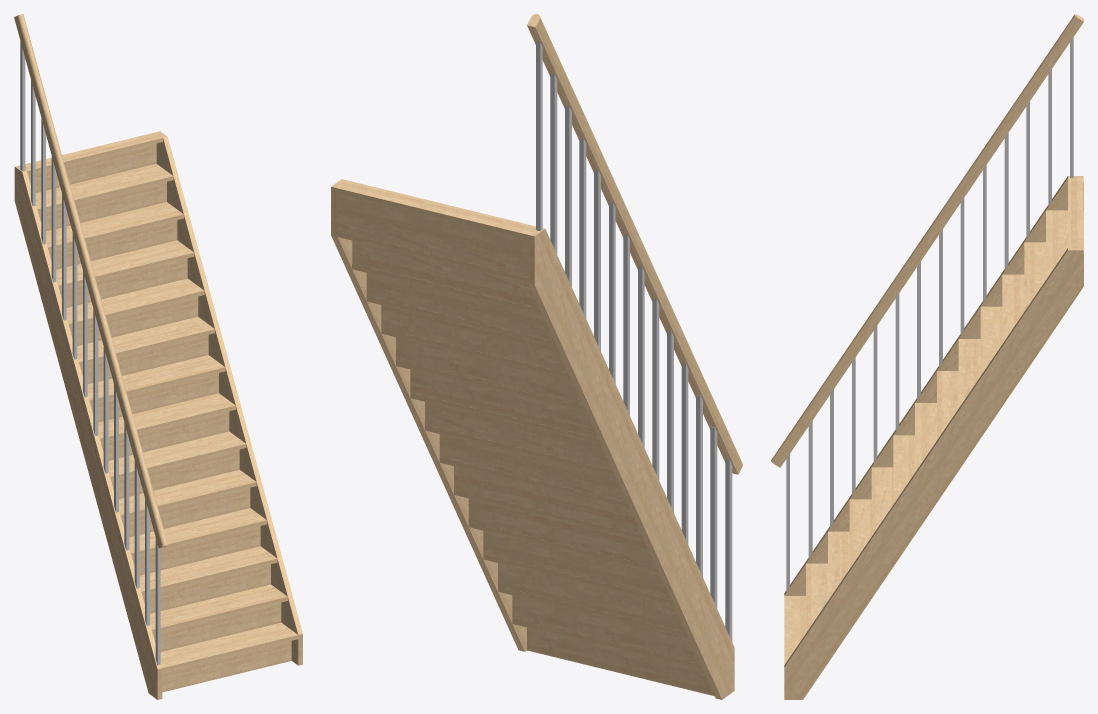
The model's file is sweethome3d-contributions-steep-staircase-442.glb.
The picture shows the model from 3 angles, left to right: view 1: azimuth 30°, elevation 25°; view 2: azimuth 150°, elevation 25°; view 3: azimuth 270°, elevation 25°; orthographic projection. The views are drawn at different scales.
Parts seen in each view (by area): view 1: 3_3, 5_5, 71_71, 28_28, 72_72, 2_2.001; view 2: 6_6, 3_3, 71_71, 28_28, 2_2.001, 72_72; view 3: 72_72, 3_3, 28_28, 2_2.001, 71_71.
Boxes of the visible parts, box(x1,y1,x2,y2) form: 3_3: box(18, 132, 299, 672); 5_5: box(28, 143, 291, 692); 71_71: box(14, 166, 162, 699); 28_28: box(20, 41, 160, 665); 72_72: box(156, 131, 302, 665); 2_2.001: box(14, 14, 167, 548); 6_6: box(337, 194, 714, 695); 3_3: box(335, 180, 702, 670); 71_71: box(528, 228, 734, 699); 28_28: box(536, 41, 732, 641); 2_2.001: box(527, 14, 742, 474); 72_72: box(331, 179, 526, 651); 72_72: box(784, 248, 1083, 699); 3_3: box(784, 177, 1083, 664); 28_28: box(786, 37, 1073, 591); 2_2.001: box(771, 14, 1083, 467); 71_71: box(784, 176, 1083, 595).
Size of the model in its own units: 94.44 by 361 by 167.
Materials: 7 (6 with a texture image).
